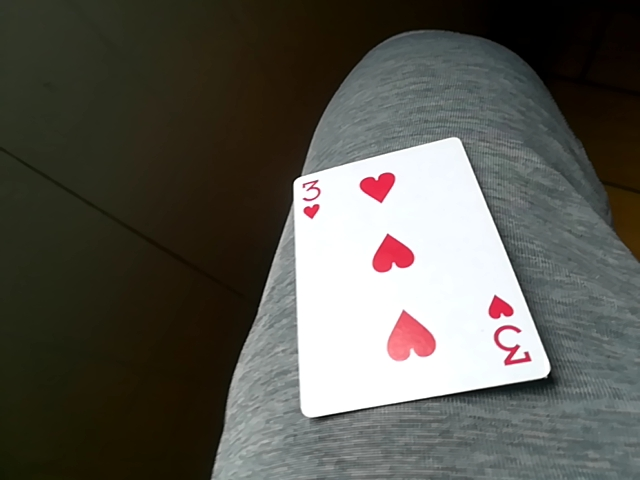hx 3: (287, 137, 549, 421)
